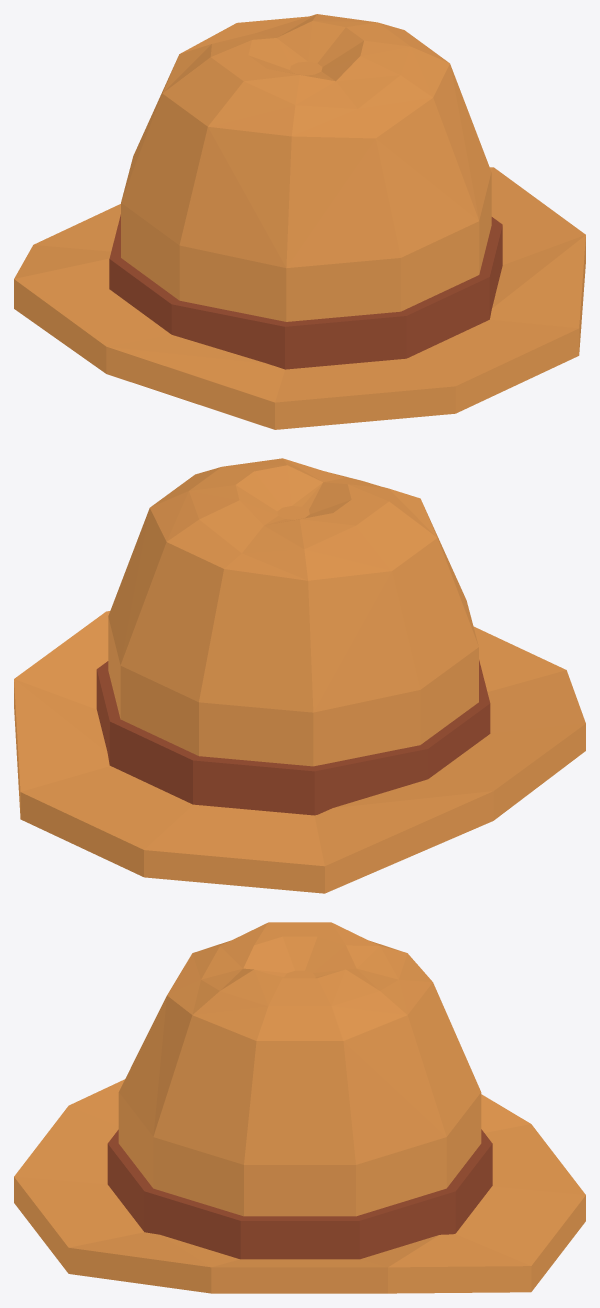
Rendered from hat.glb.
3 renders of one model, top to bottom at view 1: azimuth 30°, elevation 25°; view 2: azimuth 150°, elevation 25°; view 3: azimuth 270°, elevation 25°, orthographic. The views are drawn at different scales.
Visible parts, largest first — view 1: Cylinder, Cylinder.001; view 2: Cylinder, Cylinder.001; view 3: Cylinder, Cylinder.001.
Part boxes in pixels (left/top/right/bottom): Cylinder: left=14, top=14, right=585, bottom=429; Cylinder.001: left=109, top=214, right=502, bottom=369; Cylinder: left=14, top=458, right=585, bottom=893; Cylinder.001: left=96, top=660, right=490, bottom=815; Cylinder: left=14, top=922, right=585, bottom=1293; Cylinder.001: left=107, top=1129, right=492, bottom=1259.
Bounding box in the file's own units: 1.85 × 1.03 × 2.
